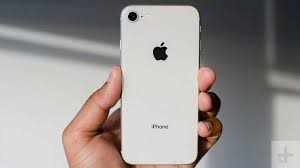iphone: (116, 1, 203, 168)
